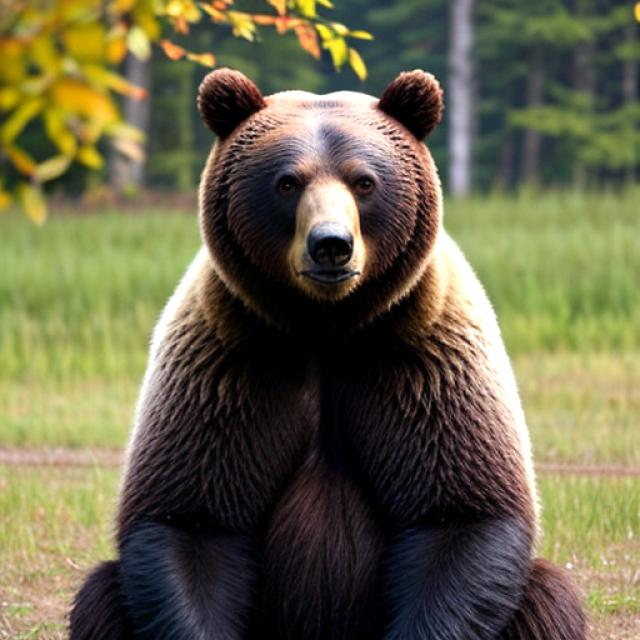bear: (150, 63, 560, 636)
